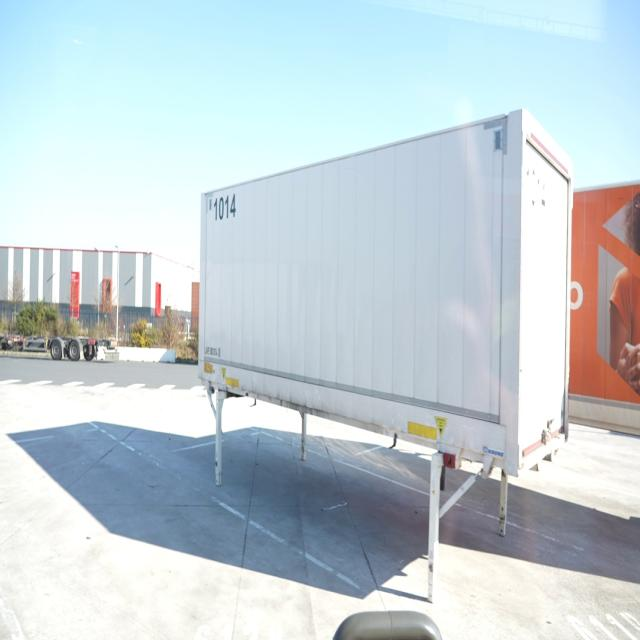Code: (210, 187, 242, 223)
